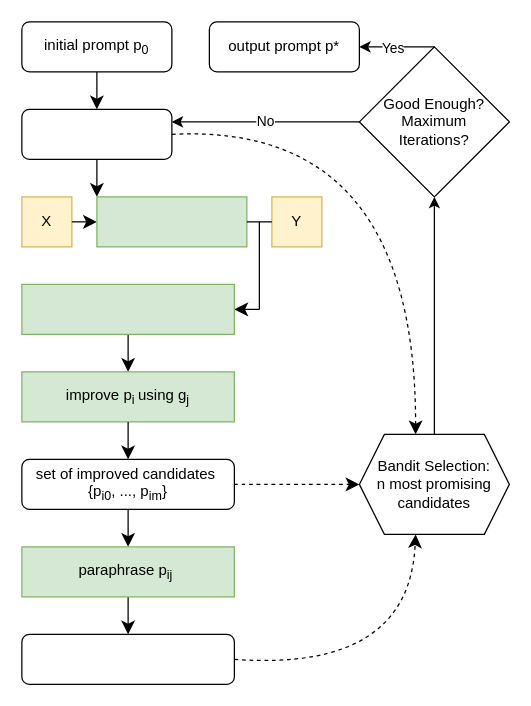
This 531x706 diagram has some shape labels left out. Each missing label, with the box of its shape:
g 0 , ..., g m : whats wrong with p i when y was expected?: (21, 283, 234, 334)
prompt p i with input x: (96, 196, 247, 247)
set of candidates {p 0 , ..., p n }: (21, 108, 172, 159)
set of paraphrased candidates {p ij0 , ..., p ijk }: (21, 633, 234, 684)
